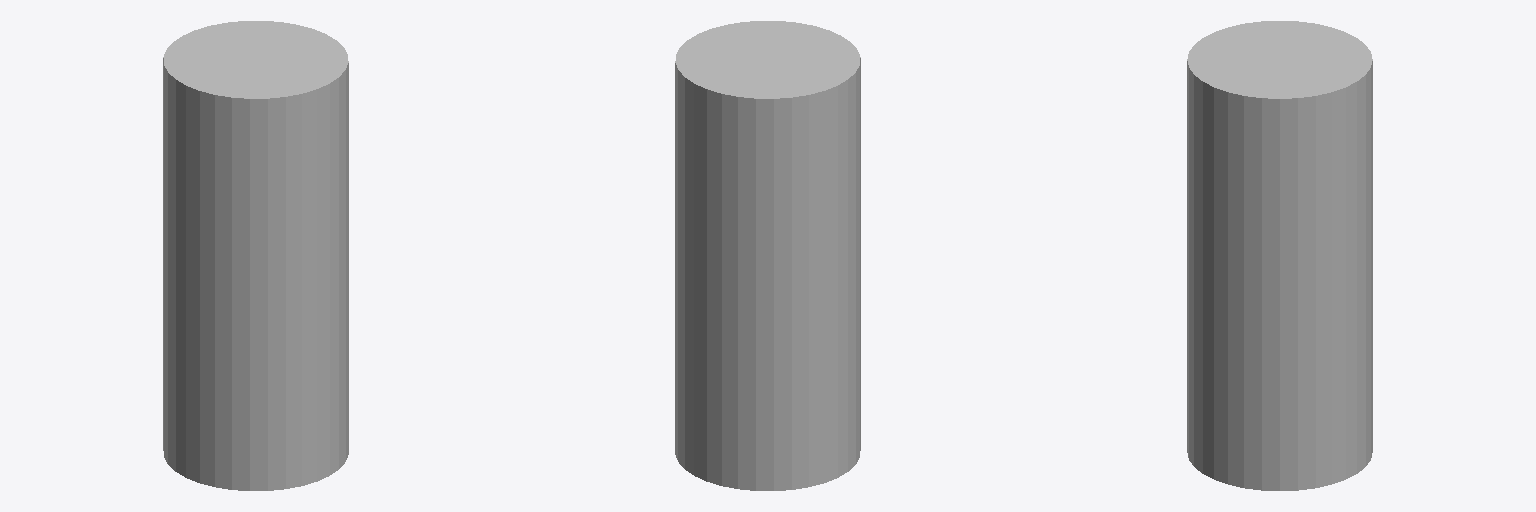
Rendered from kleenex_paper_towels.obj.
The picture shows the model from 3 angles: view 1: azimuth 30°, elevation 25°; view 2: azimuth 150°, elevation 25°; view 3: azimuth 270°, elevation 25°; orthographic projection.
Size of the model in its own units: 0.12 by 0.28 by 0.12.